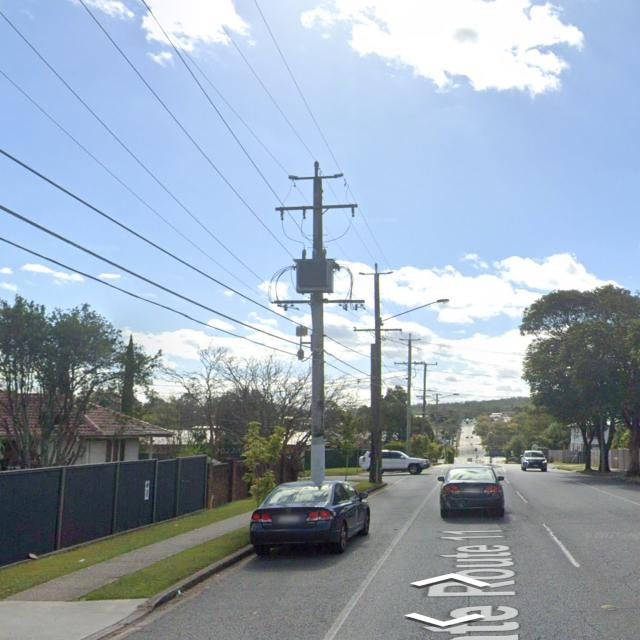HV-transmission: (274, 160, 358, 220), (358, 262, 394, 276), (400, 332, 421, 342)
concrete-pole: (310, 177, 325, 480)
crossarm: (275, 204, 358, 210), (272, 299, 366, 304), (297, 174, 334, 180), (353, 328, 403, 331), (393, 361, 425, 365), (364, 272, 388, 276), (404, 339, 418, 341), (424, 363, 436, 365)
streetlight: (380, 298, 451, 324), (426, 393, 460, 403)
timber-pole: (370, 274, 382, 483), (405, 338, 412, 454), (421, 364, 427, 435)
transformer: (294, 247, 338, 295)
